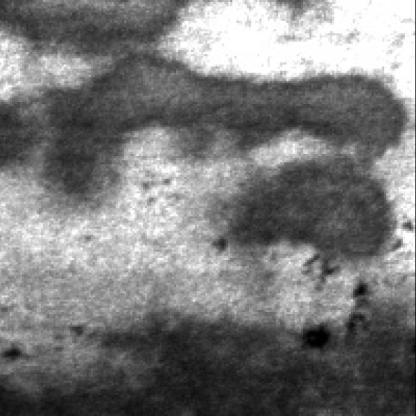patches: (0, 54, 406, 179), (0, 310, 414, 414), (212, 160, 389, 262), (0, 0, 187, 54)
